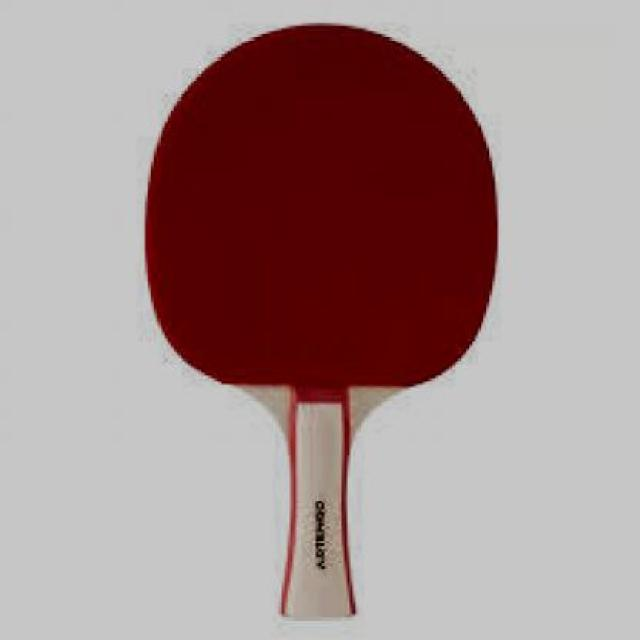table_tennis_racket: (142, 21, 503, 405)
